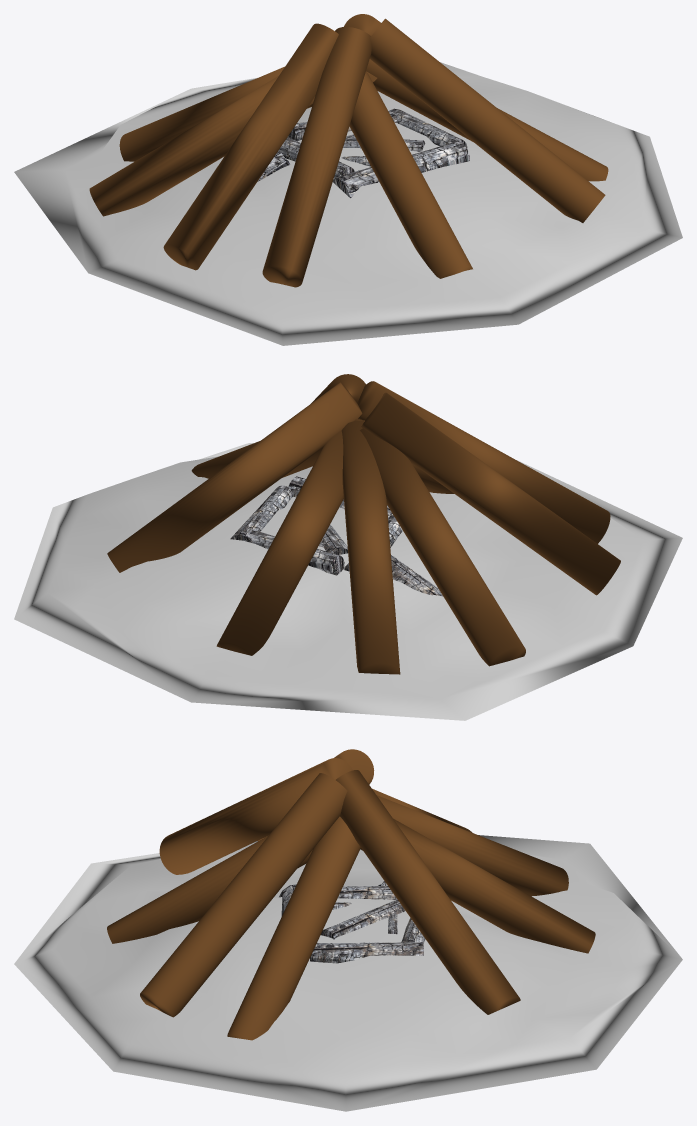
File: nuotio.fbx
3 views of the same model, one above another, from view 1: azimuth 30°, elevation 25°; view 2: azimuth 150°, elevation 25°; view 3: azimuth 270°, elevation 25° (orthographic). The views are drawn at different scales.
Visible parts, largest first — view 1: Cube, Cylinder.008, Cylinder.006, Cylinder.004, Cylinder.003; view 2: Cube, Cylinder.008, Cylinder.004, Cylinder.005, Cylinder; view 3: Cube, Cylinder.008, Cylinder.004, Cylinder.002, Cylinder.003.
Boxes of the visible parts, box(x1,y1,x2,y2) form: Cube: box(14, 62, 682, 345); Cylinder.008: box(89, 14, 608, 287); Cylinder.006: box(332, 141, 469, 198); Cylinder.004: box(388, 108, 467, 147); Cylinder.003: box(278, 137, 354, 177); Cube: box(14, 443, 682, 720); Cylinder.008: box(107, 374, 620, 674); Cylinder.004: box(230, 485, 292, 540); Cylinder.005: box(244, 530, 344, 575); Cylinder: box(391, 555, 443, 596); Cube: box(14, 835, 682, 1111); Cylinder.008: box(107, 749, 595, 1040); Cylinder.004: box(310, 942, 423, 963); Cylinder.002: box(321, 899, 405, 939); Cylinder.003: box(338, 886, 396, 899).
Bounding box in the file's own units: 672 × 225 × 666.
